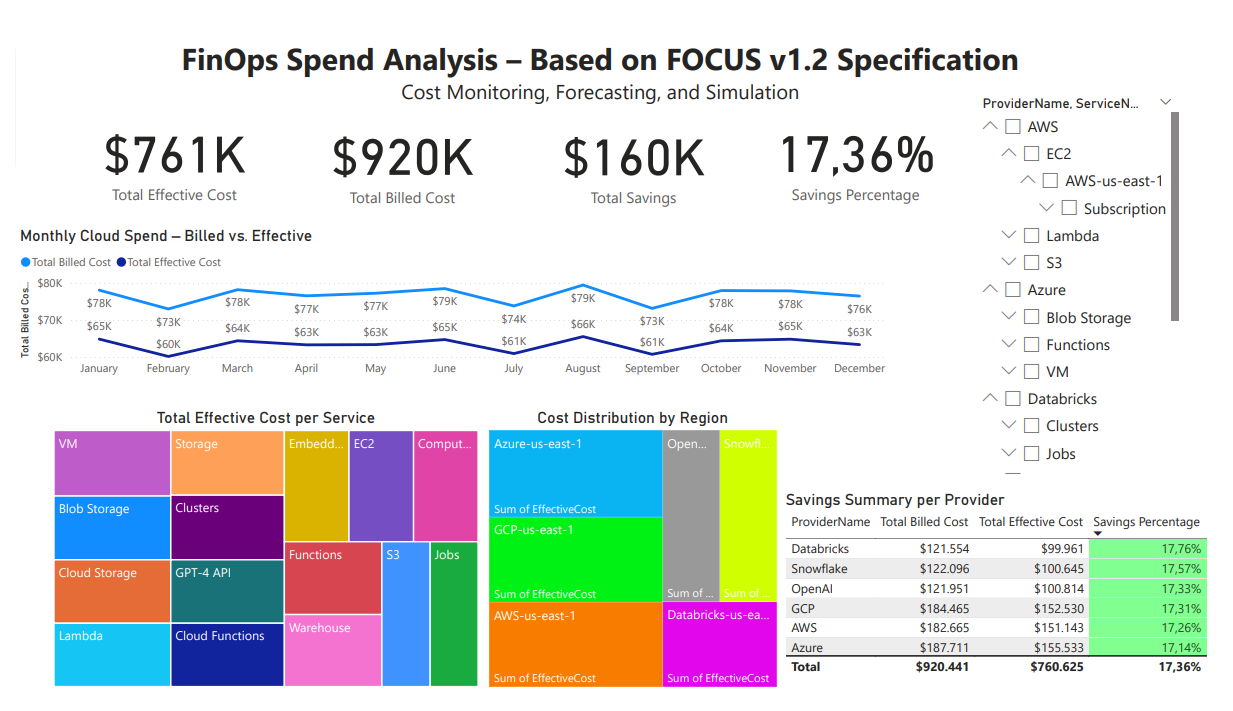

This screenshot's page, from the dashboard's own definition file:
{"tool":"powerbi","page":{"name":"Detailed Analysis","canvas":[1280,720],"ordinal":0},"visuals":[{"type":"card","fields":{"Values":["FinOpsMetrics.Total Effective Cost"]},"box":[41.1,76.8,257.1,150],"z":0},{"type":"card","fields":{"Values":["FinOpsMetrics.Total Billed Cost"]},"box":[292.9,80.4,239.3,148.2],"z":1000},{"type":"card","fields":{"Values":["FinOpsMetrics.Savings Percentage"]},"box":[773.2,87.5,244.6,128.6],"z":2000},{"type":"card","fields":{"Values":["FinOpsMetrics.Total Savings"]},"box":[525,87.5,267.9,135.7],"z":3000},{"type":"textbox","box":[153.6,17.9,939.3,87.5],"z":4000},{"type":"lineChart","title":"Monthly Cloud Spend – Billed vs. Effective","fields":{"Category":["focus_simulated_dataset_focus_1.2.ChargePeriodStart.Variation.Date Hierarchy.Month"],"Y":["FinOpsMetrics.Total Billed Cost","FinOpsMetrics.Total Effective Cost"]},"box":[0,223.9,936.3,170.4],"z":5000},{"type":"tableEx","title":"Savings Summary per Provider","fields":{"Values":["focus_simulated_dataset_focus_1.2.ProviderName","FinOpsMetrics.Total Billed Cost","FinOpsMetrics.Total Effective Cost","FinOpsMetrics.Savings Percentage"]},"box":[816.2,504.7,464.1,215.8],"z":6000},{"type":"treemap","title":"Total Effective Cost per Service","fields":{"Values":["Sum(focus_simulated_dataset_focus_1.2.EffectiveCost)"],"Details":["focus_simulated_dataset_focus_1.2.ServiceName"]},"box":[35.7,417.9,462.5,301.8],"z":7000},{"type":"slicer","fields":{"Values":["focus_simulated_dataset_focus_1.2.ProviderName","focus_simulated_dataset_focus_1.2.ServiceName","focus_simulated_dataset_focus_1.2.RegionId","focus_simulated_dataset_focus_1.2.SubAccountType","focus_simulated_dataset_focus_1.2.ChargePeriodEnd","focus_simulated_dataset_focus_1.2.ChargePeriodEnd.Variation.Date Hierarchy.Year","focus_simulated_dataset_focus_1.2.ChargePeriodEnd.Variation.Date Hierarchy.Month"]},"box":[1017.9,80.4,226.8,414.3],"z":8000},{"type":"treemap","title":"Cost Distribution by Region","fields":{"Group":["focus_simulated_dataset_focus_1.2.RegionId"],"Values":["Sum(focus_simulated_dataset_focus_1.2.EffectiveCost)","FinOpsMetrics.Savings Percentage"]},"box":[500,417.9,316.1,301.8],"z":8001}]}

Visuals, with their boxes in screenshot pixels (x1, y1, x2, y2), scaled from the page's 1280x720 canvas onto the 1233x711 screenshot:
card - FinOpsMetrics.Total Effective Cost: <bbox>40, 76, 287, 224</bbox>
card - FinOpsMetrics.Total Billed Cost: <bbox>282, 79, 513, 226</bbox>
card - FinOpsMetrics.Savings Percentage: <bbox>745, 86, 980, 213</bbox>
card - FinOpsMetrics.Total Savings: <bbox>506, 86, 764, 220</bbox>
textbox: <bbox>148, 18, 1053, 104</bbox>
"Monthly Cloud Spend – Billed vs. Effective" lineChart: <bbox>0, 221, 902, 389</bbox>
"Savings Summary per Provider" tableEx: <bbox>786, 498, 1232, 710</bbox>
"Total Effective Cost per Service" treemap: <bbox>34, 413, 480, 710</bbox>
slicer - focus_simulated_dataset_focus_1.2.ProviderName x focus_simulated_dataset_focus_1.2.ServiceName: <bbox>981, 79, 1199, 489</bbox>
"Cost Distribution by Region" treemap: <bbox>482, 413, 786, 710</bbox>
